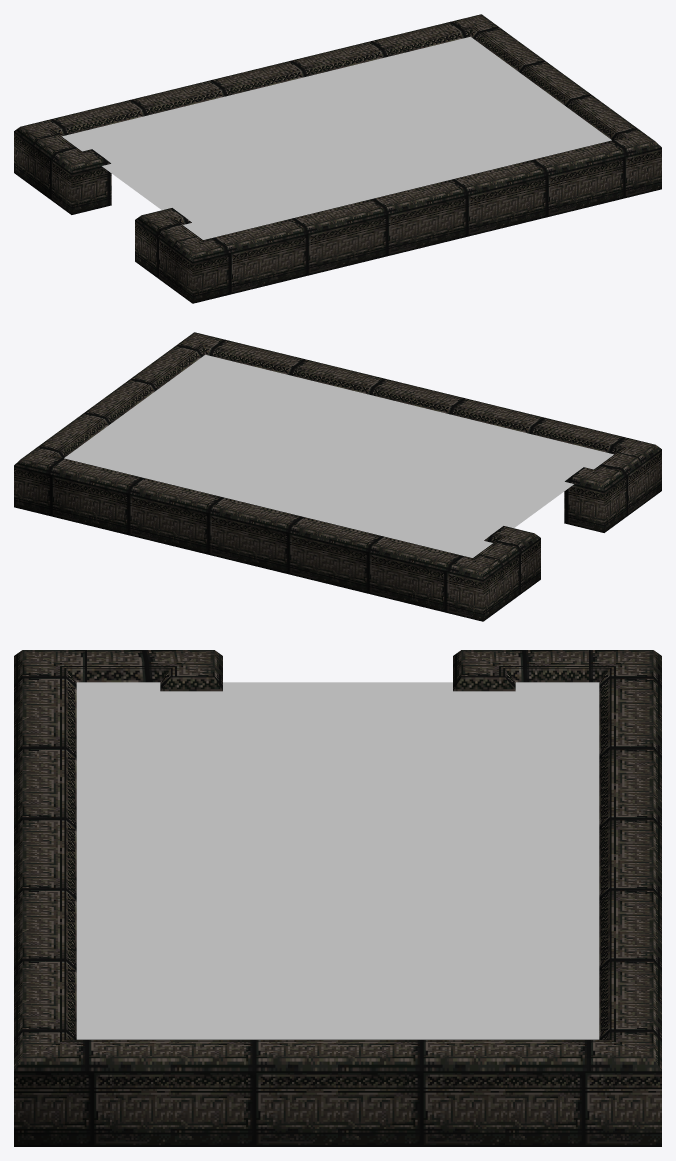
The model's file is EnvMdrMD_Atl_A_Entrance.FBX.
3 views of the same model, one above another, from view 1: azimuth 30°, elevation 25°; view 2: azimuth 150°, elevation 25°; view 3: azimuth 270°, elevation 25° (orthographic). The views are drawn at different scales.
Visible parts, largest first — view 1: EnvMdrMD_Atl_A_Entrance; view 2: EnvMdrMD_Atl_A_Entrance; view 3: EnvMdrMD_Atl_A_Entrance.
Boxes of the visible parts, box(x1,y1,x2,y2) form: EnvMdrMD_Atl_A_Entrance: box(14, 14, 661, 303); EnvMdrMD_Atl_A_Entrance: box(14, 332, 661, 621); EnvMdrMD_Atl_A_Entrance: box(14, 650, 661, 1146).
Size of the model in its own units: 2350 by 225 by 1550.
